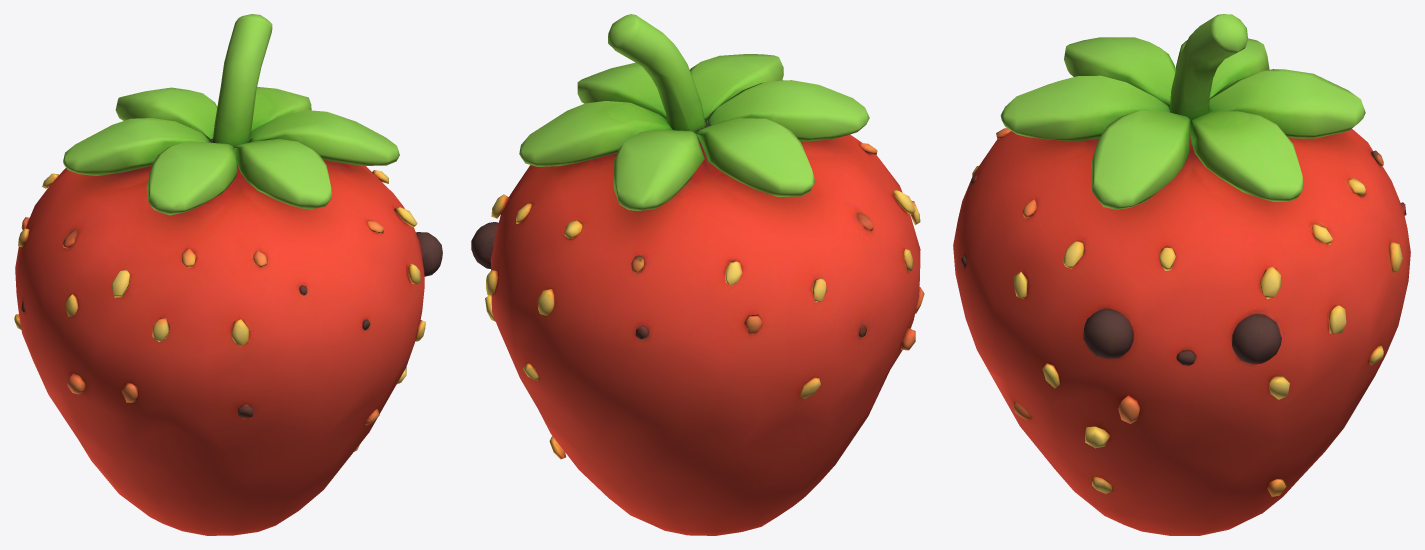
Rendered from strawberry.glb.
3 renders of one model, left to right at view 1: azimuth 30°, elevation 25°; view 2: azimuth 150°, elevation 25°; view 3: azimuth 270°, elevation 25°, orthographic. The views are drawn at different scales.
Parts seen in each view (by area): view 1: tripo_node_f80e7127-332e-4660-a18c-d4f06e53aa43; view 2: tripo_node_f80e7127-332e-4660-a18c-d4f06e53aa43; view 3: tripo_node_f80e7127-332e-4660-a18c-d4f06e53aa43.
Boxes of the visible parts, x1,y1,x2,y2 form: tripo_node_f80e7127-332e-4660-a18c-d4f06e53aa43: (14, 14, 442, 535); tripo_node_f80e7127-332e-4660-a18c-d4f06e53aa43: (471, 14, 924, 535); tripo_node_f80e7127-332e-4660-a18c-d4f06e53aa43: (953, 14, 1410, 535).
Size of the model in its own units: 0.8105 by 0.998 by 0.791.
Materials: 1 (1 with a texture image).
